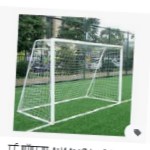goals: (19, 36, 124, 124)
